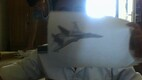maybay_muctieu: (51, 22, 103, 53)
